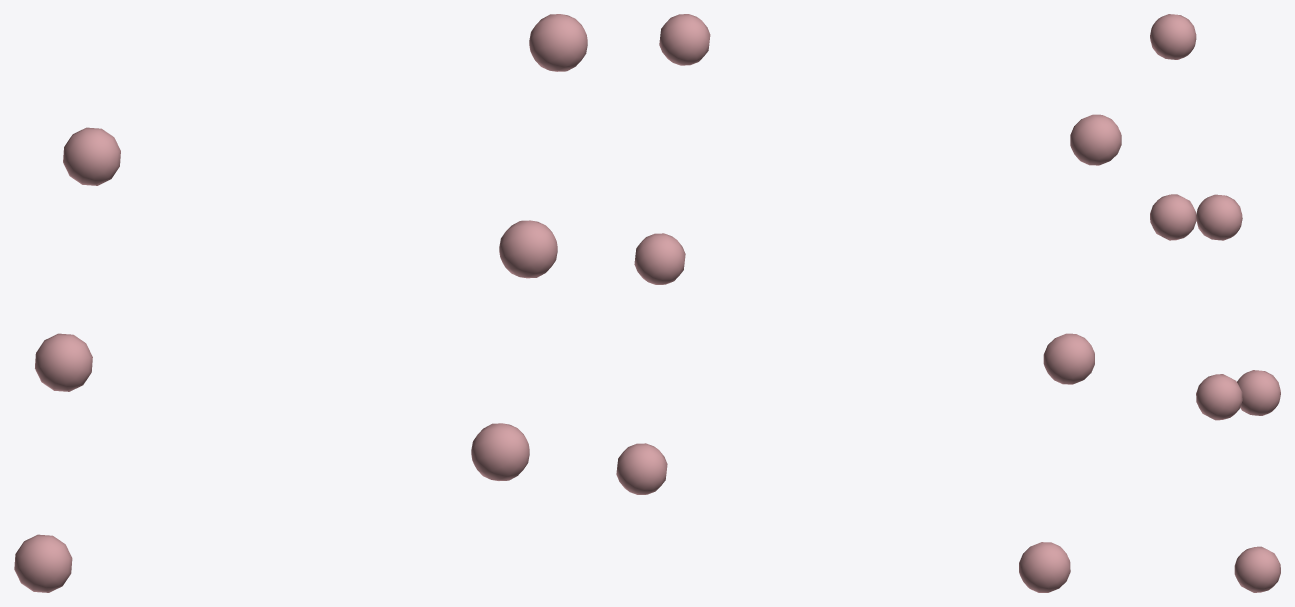
3 renders of one model, left to right at view 1: azimuth 30°, elevation 25°; view 2: azimuth 150°, elevation 25°; view 3: azimuth 270°, elevation 25°, orthographic. The views are drawn at different scales.
Parts seen in each view (by area): view 1: ZA_4b1fc9e32a9598eb; view 2: ZA_4b1fc9e32a9598eb; view 3: ZA_4b1fc9e32a9598eb.
Boxes of the visible parts, <box> form: ZA_4b1fc9e32a9598eb: <box>14,14,587,592</box>; ZA_4b1fc9e32a9598eb: <box>616,14,1121,592</box>; ZA_4b1fc9e32a9598eb: <box>1150,14,1280,592</box>.
Size of the model in its own units: 0.0261 by 0.0241 by 0.00723.
